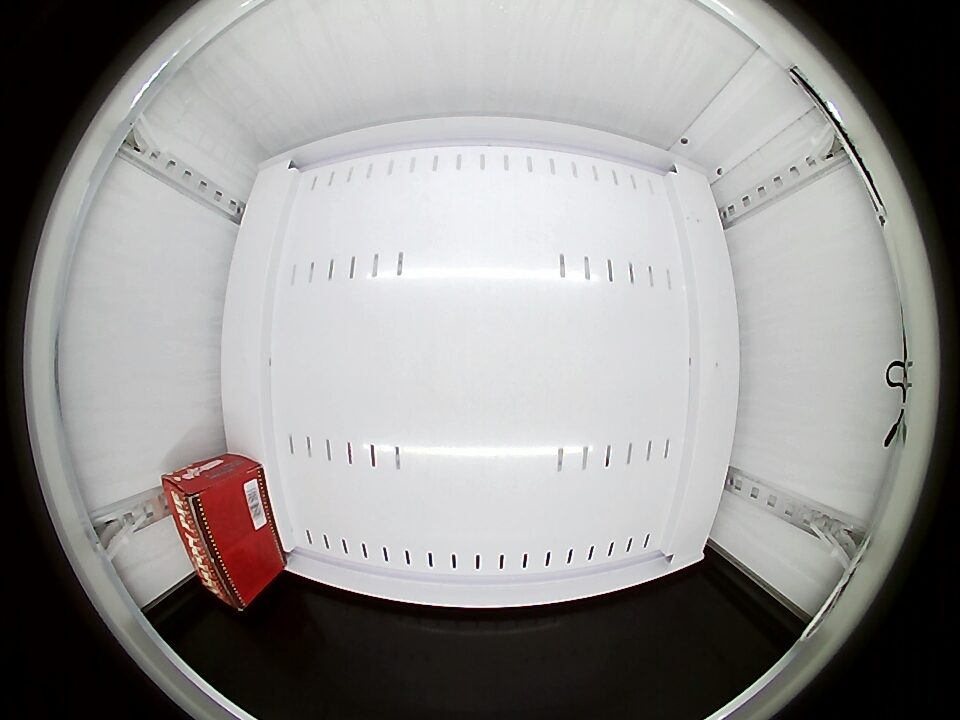haoliyou: (161, 464, 270, 610)
